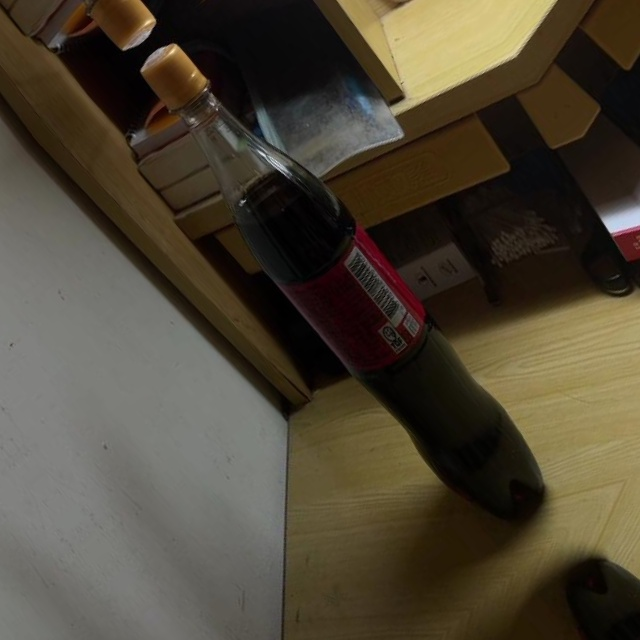Coca-Cola: (109, 22, 571, 544)
